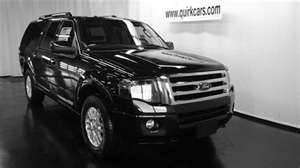car: (17, 11, 240, 160)
